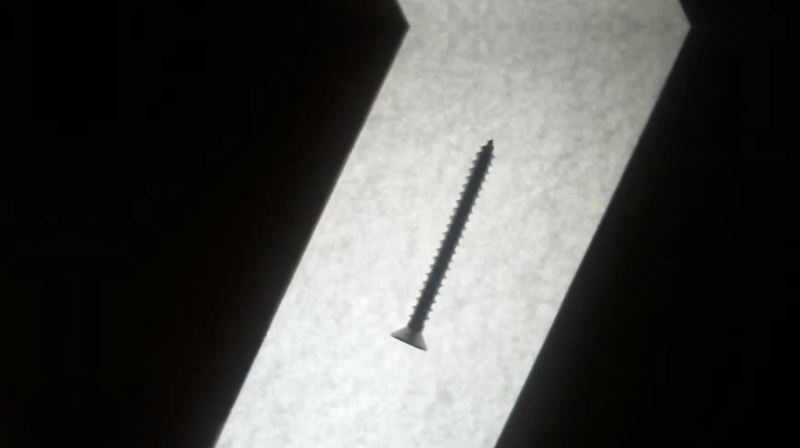S002: (385, 136, 496, 354)
